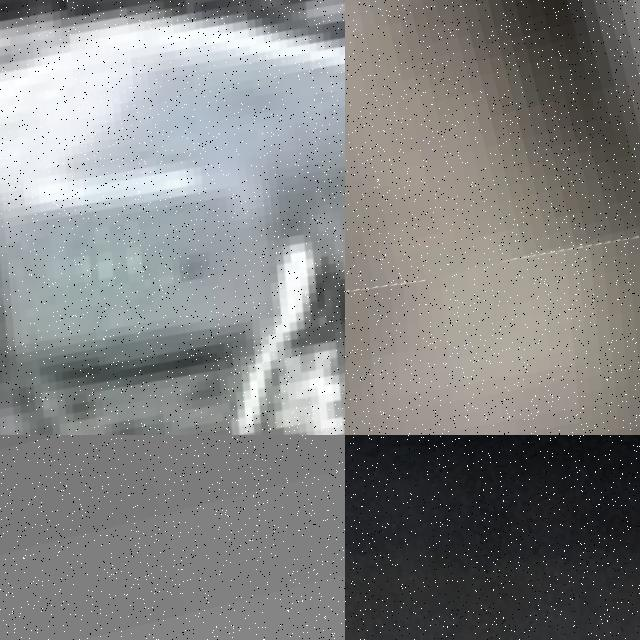drone: (0, 0, 345, 435), (345, 190, 640, 435)
